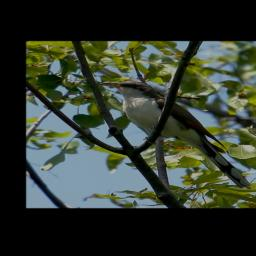Cuckoo: (99, 80, 253, 189)
